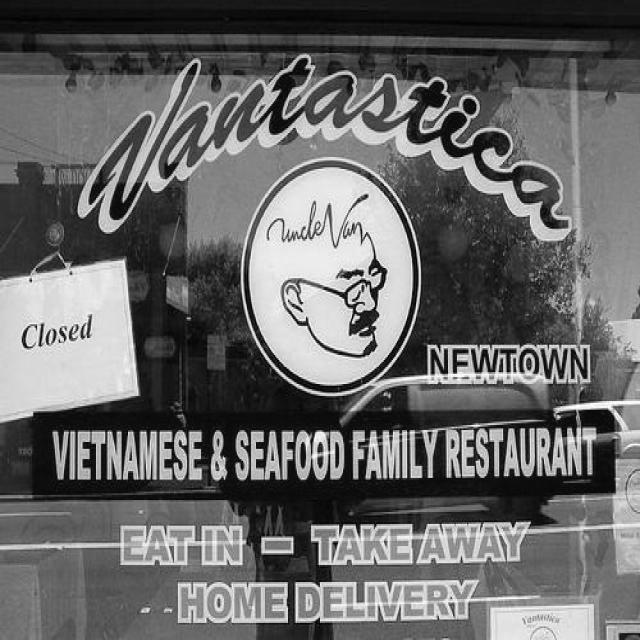vehicle: (554, 401, 640, 459)
